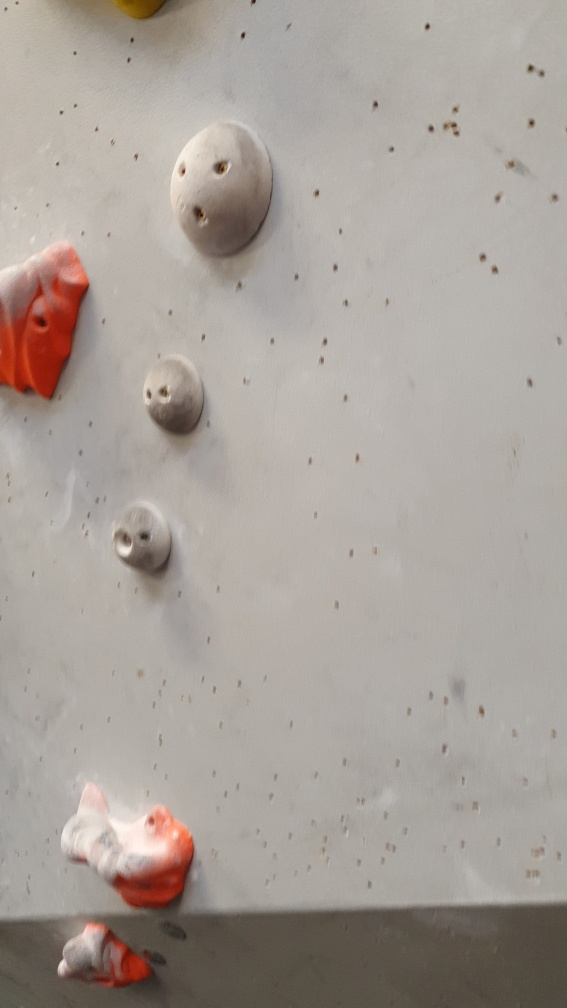Hand Start: (144, 948, 172, 972), (162, 919, 186, 942)
Jug: (58, 785, 198, 912), (1, 234, 94, 401), (57, 919, 157, 990)
Sloper: (166, 118, 277, 260), (141, 348, 210, 438), (110, 500, 173, 576)
